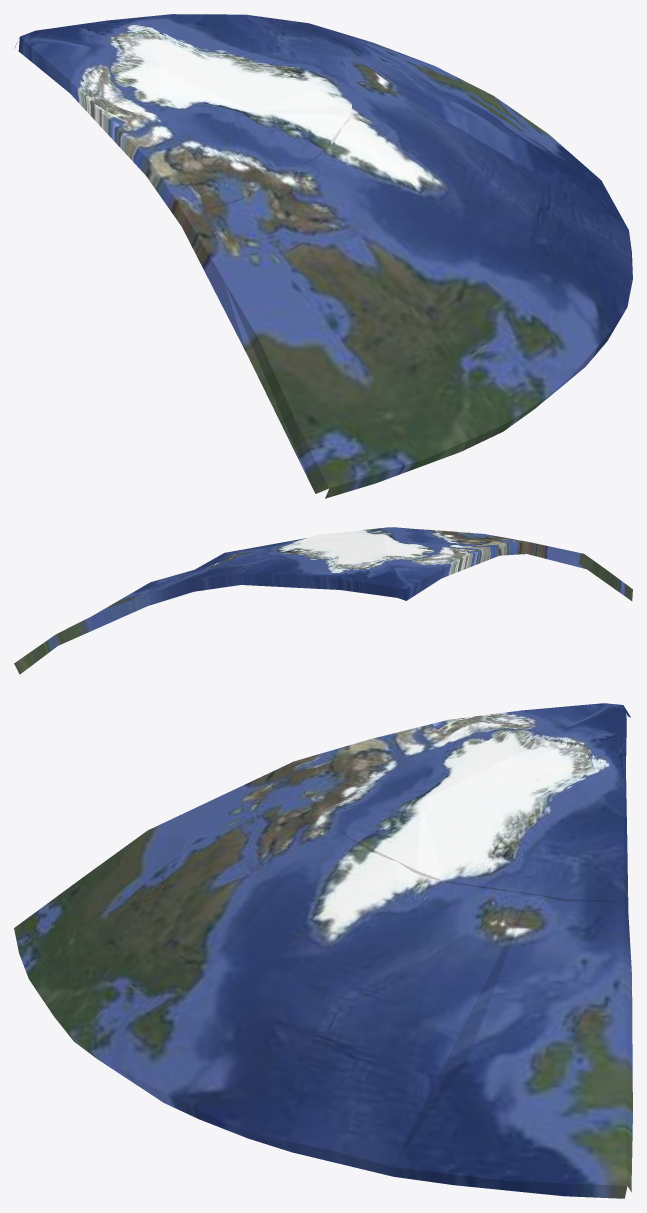
3 views of the same model, one above another, from view 1: azimuth 30°, elevation 25°; view 2: azimuth 150°, elevation 25°; view 3: azimuth 270°, elevation 25° (orthographic). The views are drawn at different scales.
Bounding box in the file's own units: 4599526 × 2008869 × 4630434.
Materials: 1 (1 with a texture image).
